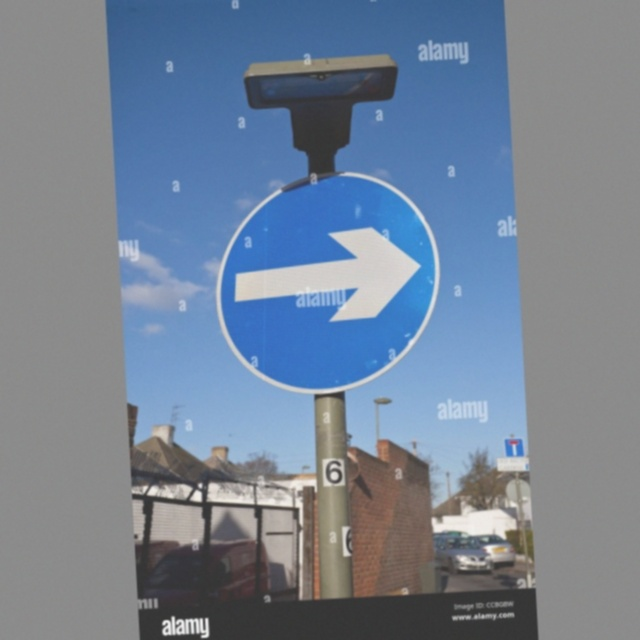Compulsory_Turn_Right: (206, 167, 444, 399)
